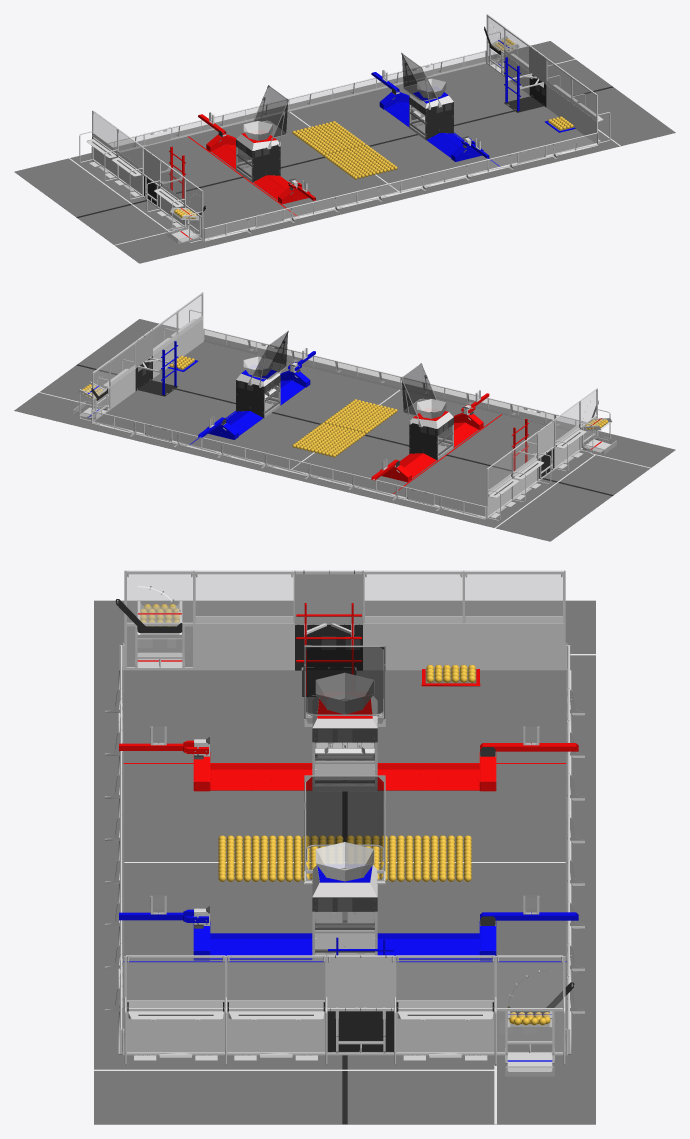
The model's file is Field2026-lite.glb.
3 views of the same model, one above another, from view 1: azimuth 30°, elevation 25°; view 2: azimuth 150°, elevation 25°; view 3: azimuth 270°, elevation 25° (orthographic). The views are drawn at different scales.
Parts seen in each view (by area): view 1: FE-2026-01: Playing Field Carpet (×2), FE-00010: Field Plastic "C" (×8), FE-00012: Driver Station Acrylic (×6), GE-26318: Hub Net (Aesthetic) (×2), GE-26327-Vinyl: Hub Side Panel Vinyl (×2), FE-00004-01: 3/16" Diamond Plate Sheet, 6061 Aluminum (×3), GE-26506: Tower Upper Plastic (×2), GE-26003: Outpost Upper Panel Assy <1> (×2), GE-26101: Bump Plastic (×2), Gaffer Tape, Black, 4in Wide, 888in Long, GE-26511-Vinyl: Tower Upper Plastic Vinyl, GE-26328: Hub Front Panel, Bottom; view 2: FE-2026-01: Playing Field Carpet (×2), FE-00012: Driver Station Acrylic (×6), FE-00010: Field Plastic "C" (×7), GE-26318: Hub Net (Aesthetic) (×2), GE-26327-Vinyl: Hub Side Panel Vinyl (×2), FE-00004-01: 3/16" Diamond Plate Sheet, 6061 Aluminum (×3), GE-26506: Tower Upper Plastic (×2), GE-26101: Bump Plastic (×2), Gaffer Tape, Black, 4in Wide, 888in Long, GE-26003: Outpost Upper Panel Assy <1>, GE-26511-Vinyl: Tower Upper Plastic Vinyl, GE-26328: Hub Front Panel, Bottom; view 3: FE-2026-01: Playing Field Carpet (×2), FE-00012: Driver Station Acrylic (×6), FE-00004-01: 3/16" Diamond Plate Sheet, 6061 Aluminum (×6), GE-26318: Hub Net (Aesthetic) (×2), GE-26101: Bump Plastic (×4), GE-26506: Tower Upper Plastic (×2), GE-26003: Outpost Upper Panel Assy <1> (×2), GE-26505: Tower Lower Plastic (×2), GE-26002: Outpost Lower Panel (×2), GE-26511-Vinyl: Tower Upper Plastic Vinyl, GE-26328: Hub Front Panel, Bottom, GE-26301-01: Hub Base (×2) (+4 smaller).
Boxes of the visible parts, bbox=[...] form: FE-2026-01: Playing Field Carpet (×2): bbox=[14, 41, 675, 263]; FE-00010: Field Plastic "C" (×8): bbox=[202, 78, 487, 211]; FE-00012: Driver Station Acrylic (×6): bbox=[94, 29, 596, 198]; GE-26318: Hub Net (Aesthetic) (×2): bbox=[254, 54, 436, 137]; GE-26327-Vinyl: Hub Side Panel Vinyl (×2): bbox=[252, 102, 453, 182]; FE-00004-01: 3/16" Diamond Plate Sheet, 6061 Aluminum (×3): bbox=[504, 54, 596, 143]; GE-26506: Tower Upper Plastic (×2): bbox=[144, 46, 546, 184]; GE-26003: Outpost Upper Panel Assy <1> (×2): bbox=[186, 16, 503, 215]; GE-26101: Bump Plastic (×2): bbox=[253, 133, 458, 200]; Gaffer Tape, Black, 4in Wide, 888in Long: bbox=[76, 86, 613, 217]; GE-26511-Vinyl: Tower Upper Plastic Vinyl: bbox=[529, 47, 545, 83]; GE-26328: Hub Front Panel, Bottom: bbox=[236, 147, 251, 181]; FE-2026-01: Playing Field Carpet (×2): bbox=[14, 319, 675, 541]; FE-00012: Driver Station Acrylic (×6): bbox=[111, 295, 578, 489]; FE-00010: Field Plastic "C" (×7): bbox=[202, 356, 487, 489]; GE-26318: Hub Net (Aesthetic) (×2): bbox=[253, 332, 435, 415]; GE-26327-Vinyl: Hub Side Panel Vinyl (×2): bbox=[236, 380, 437, 460]; FE-00004-01: 3/16" Diamond Plate Sheet, 6061 Aluminum (×3): bbox=[110, 320, 202, 409]; GE-26506: Tower Upper Plastic (×2): bbox=[135, 330, 553, 456]; GE-26101: Bump Plastic (×2): bbox=[231, 411, 436, 478]; Gaffer Tape, Black, 4in Wide, 888in Long: bbox=[76, 364, 613, 495]; GE-26003: Outpost Upper Panel Assy <1>: bbox=[93, 362, 110, 398]; GE-26511-Vinyl: Tower Upper Plastic Vinyl: bbox=[136, 331, 152, 367]; GE-26328: Hub Front Panel, Bottom: bbox=[438, 425, 453, 459]; FE-2026-01: Playing Field Carpet (×2): bbox=[94, 600, 595, 1124]; FE-00012: Driver Station Acrylic (×6): bbox=[127, 572, 563, 1000]; FE-00004-01: 3/16" Diamond Plate Sheet, 6061 Aluminum (×6): bbox=[127, 625, 564, 1052]; GE-26318: Hub Net (Aesthetic) (×2): bbox=[306, 647, 383, 848]; GE-26101: Bump Plastic (×4): bbox=[210, 769, 479, 959]; GE-26506: Tower Upper Plastic (×2): bbox=[294, 571, 394, 1007]; GE-26003: Outpost Upper Panel Assy <1> (×2): bbox=[126, 572, 562, 1007]; GE-26505: Tower Lower Plastic (×2): bbox=[295, 625, 393, 1052]; GE-26002: Outpost Lower Panel (×2): bbox=[126, 626, 562, 1051]; GE-26511-Vinyl: Tower Upper Plastic Vinyl: bbox=[295, 572, 362, 624]; GE-26328: Hub Front Panel, Bottom: bbox=[312, 912, 377, 960]; GE-26301-01: Hub Base (×2): bbox=[312, 760, 377, 960].
Size of the model in its own units: 22.56 by 3.06 by 9.14.
